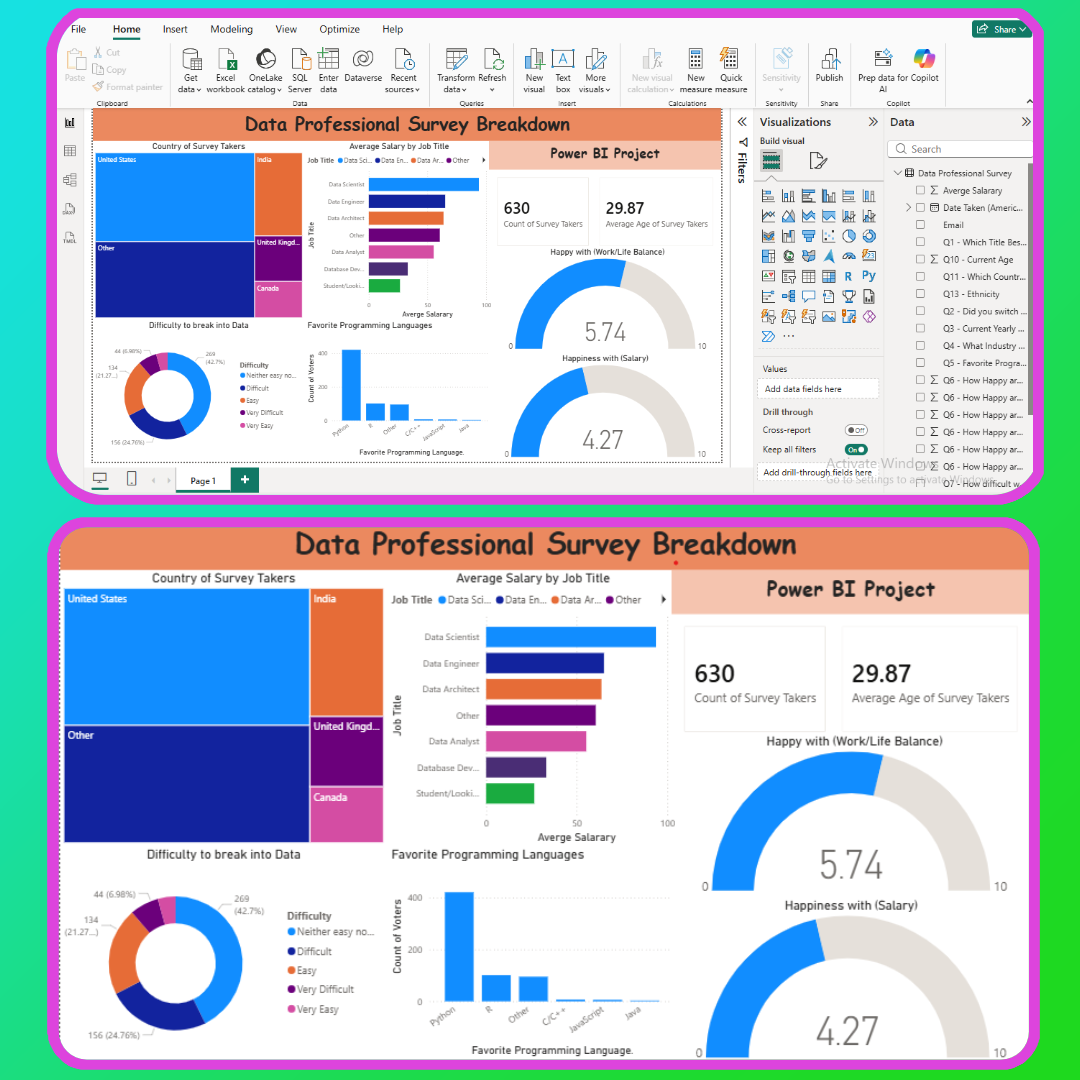

What the dashboard file says about the page in this screenshot:
{"tool":"powerbi","page":{"name":"Page 1","canvas":[1280,720],"ordinal":0},"visuals":[{"type":"textbox","box":[0,0,1280,67.3],"z":0},{"type":"cardVisual","fields":{"Data":["Avg(Data Professional Survey.Q10 - Current Age)"]},"box":[1013.5,124.5,266.5,173.6],"z":1000},{"type":"barChart","title":"Average Salary by Job Title","fields":{"Category":["Data Professional Survey.Q1 - Which Title Best Fits your Current Role?.1"],"Y":["Avg(Data Professional Survey.Averge Salarary)"],"Series":["Data Professional Survey.Q1 - Which Title Best Fits your Current Role?.1"]},"box":[431.3,66.6,384,364.7],"z":2000},{"type":"clusteredColumnChart","title":"Favorite Programming Languages","fields":{"Category":["Data Professional Survey.Q5 - Favorite Programming Language.1"],"Y":["CountNonNull(Data Professional Survey.Unique ID)"]},"box":[431.3,431.3,384,282.3],"z":3000},{"type":"cardVisual","fields":{"Data":["Count(Data Professional Survey.Unique ID)"]},"box":[806.6,124.5,220.9,173.6],"z":4000},{"type":"treemap","title":"Country of Survey Takers ","fields":{"Values":["CountNonNull(Data Professional Survey.Q11 - Which Country do you live in?.1)"],"Group":["Data Professional Survey.Q11 - Which Country do you live in?.1"]},"box":[0,66.6,431.3,364.7],"z":5000},{"type":"gauge","title":"Happy with (Work/Life Balance)","fields":{"Y":["Avg(Data Professional Survey.Q6 - How Happy are you in your Current Position with the following? (Work/Life Balance))"],"MinValue":["Min(Data Professional Survey.Q6 - How Happy are you in your Current Position with the following? (Work/Life Balance))1"],"MaxValue":["Max(Data Professional Survey.Q6 - How Happy are you in your Current Position with the following? (Work/Life Balance))2"]},"box":[815.3,282.3,464.7,217.4],"z":6000},{"type":"gauge","title":"Happiness with (Salary)","fields":{"Y":["Avg(Data Professional Survey.Q6 - How Happy are you in your Current Position with the following? (Salary))"],"MinValue":["Min(Data Professional Survey.Q6 - How Happy are you in your Current Position with the following? (Salary))1"],"MaxValue":["Max(Data Professional Survey.Q6 - How Happy are you in your Current Position with the following? (Salary))2"]},"box":[806.6,499.7,473.4,220.9],"z":7000},{"type":"donutChart","title":"Difficulty to break into Data","fields":{"Category":["Data Professional Survey.Q7 - How difficult was it for you to break into Data?"],"Y":["CountNonNull(Data Professional Survey.Q7 - How difficult was it for you to break into Data?)"]},"box":[0,431.3,431.3,289.3],"z":8000},{"type":"textbox","box":[806.6,66.6,473.4,57.9],"z":8001}]}

Visuals, with their boxes on the page's 1280x720 design canvas (x1, y1, x2, y2). These are canvas units, not pixel positions in the 1080x1080 screenshot, which may show the page scaled, cropped or inside an application window:
textbox: [0,0,1280,67]
cardVisual - Avg(Data Professional Survey.Q10 - Current Age): [1014,124,1280,298]
"Average Salary by Job Title" barChart: [431,67,815,431]
"Favorite Programming Languages" clusteredColumnChart: [431,431,815,714]
cardVisual - Count(Data Professional Survey.Unique ID): [807,124,1028,298]
"Country of Survey Takers " treemap: [0,67,431,431]
"Happy with (Work/Life Balance)" gauge: [815,282,1280,500]
"Happiness with (Salary)" gauge: [807,500,1280,721]
"Difficulty to break into Data" donutChart: [0,431,431,721]
textbox: [807,67,1280,124]
